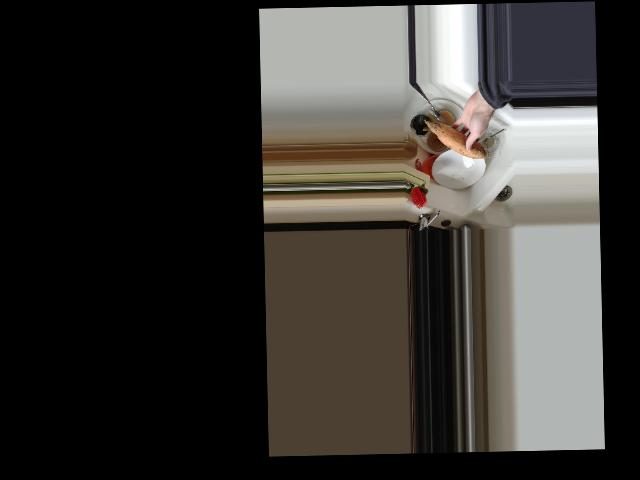sweet_potato: (425, 116, 487, 161)
